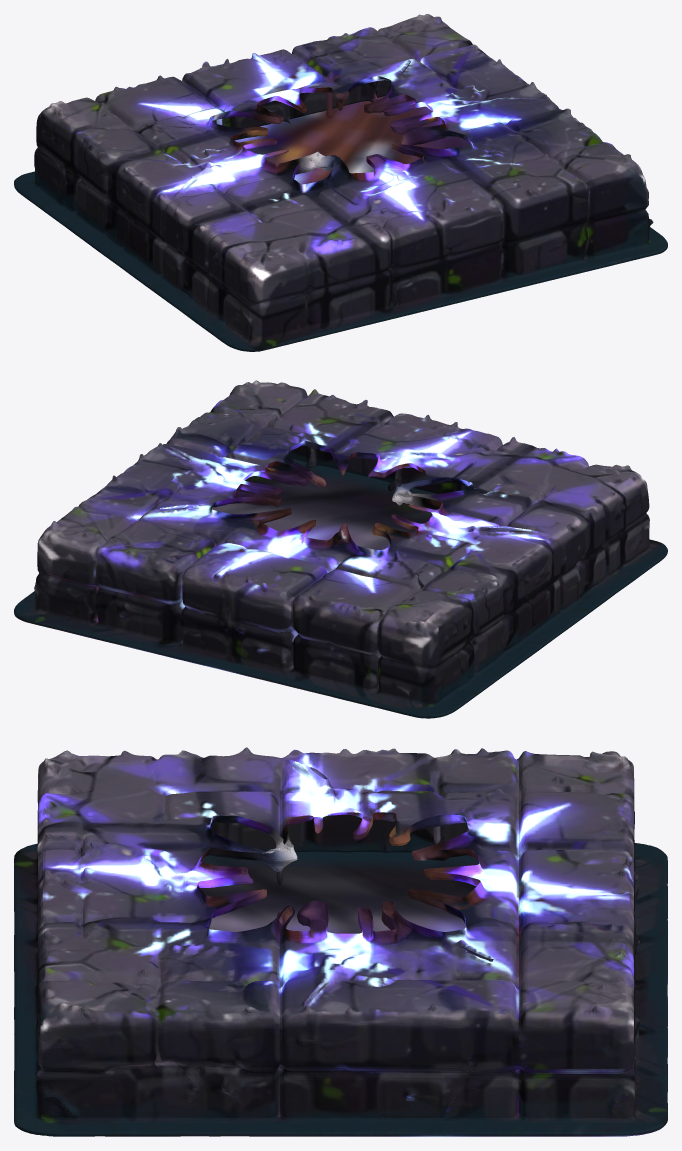
The model's file is spark_plate.glb.
3 views of the same model, one above another, from view 1: azimuth 30°, elevation 25°; view 2: azimuth 150°, elevation 25°; view 3: azimuth 270°, elevation 25° (orthographic). The views are drawn at different scales.
Visible parts, largest first — view 1: spark_plate; view 2: spark_plate; view 3: spark_plate.
Part boxes in pixels (<box>): spark_plate: <box>14,14,667,351</box>; spark_plate: <box>14,380,667,718</box>; spark_plate: <box>14,747,667,1136</box>.
Size of the model in its own units: 2 by 0.3812 by 1.89.
1 material, 1 textured.
